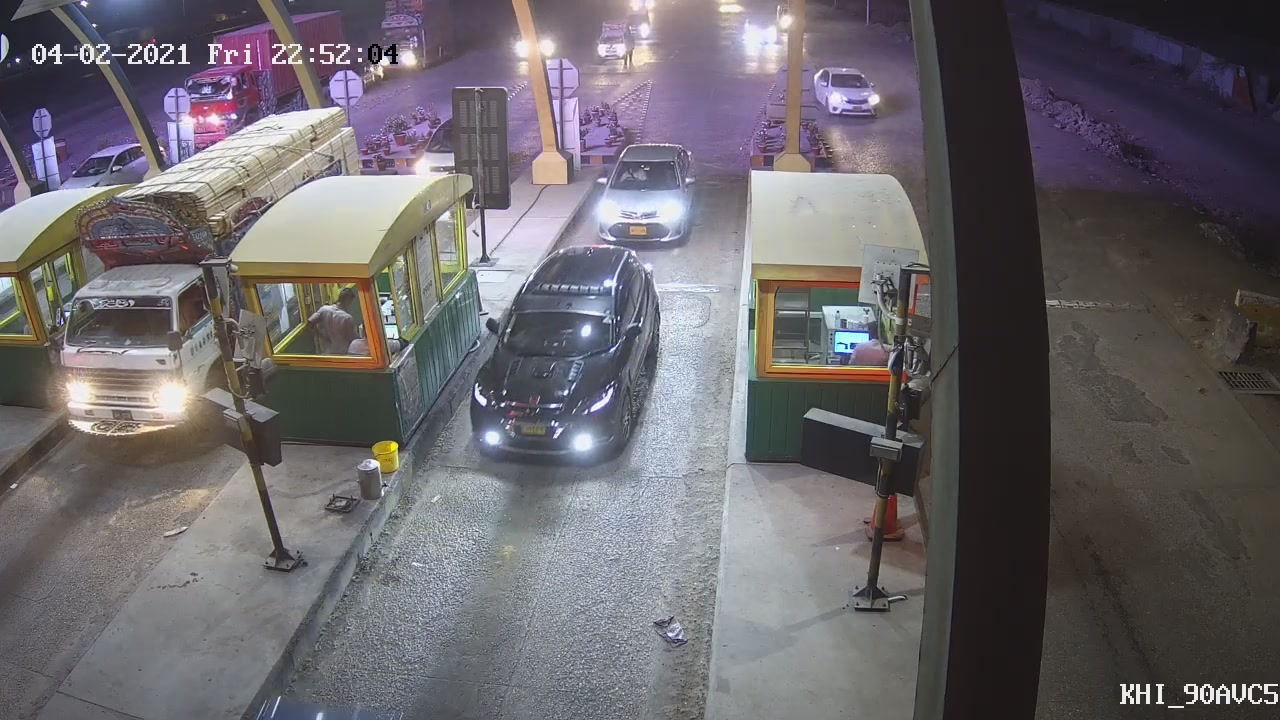F1: (466, 246, 666, 463), (592, 140, 698, 243)
